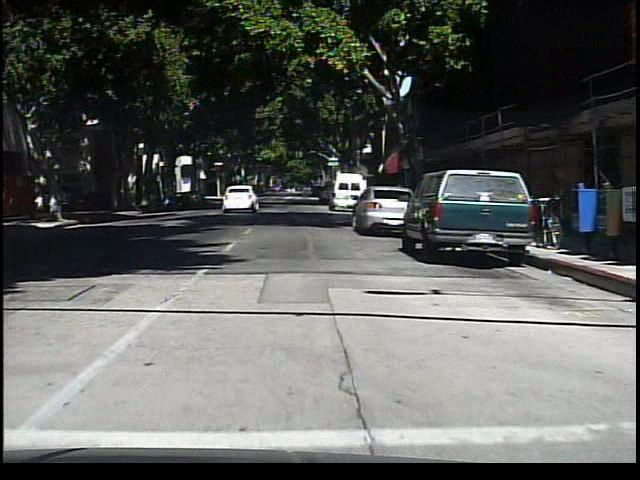person: (49, 178, 66, 222), (294, 178, 313, 206)
